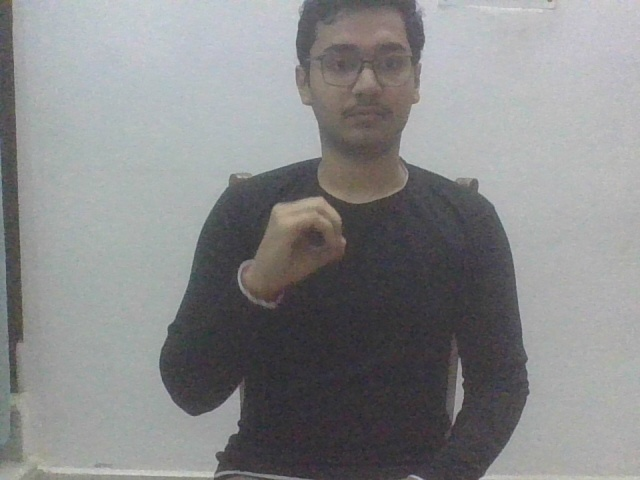O: (234, 195, 353, 310)
